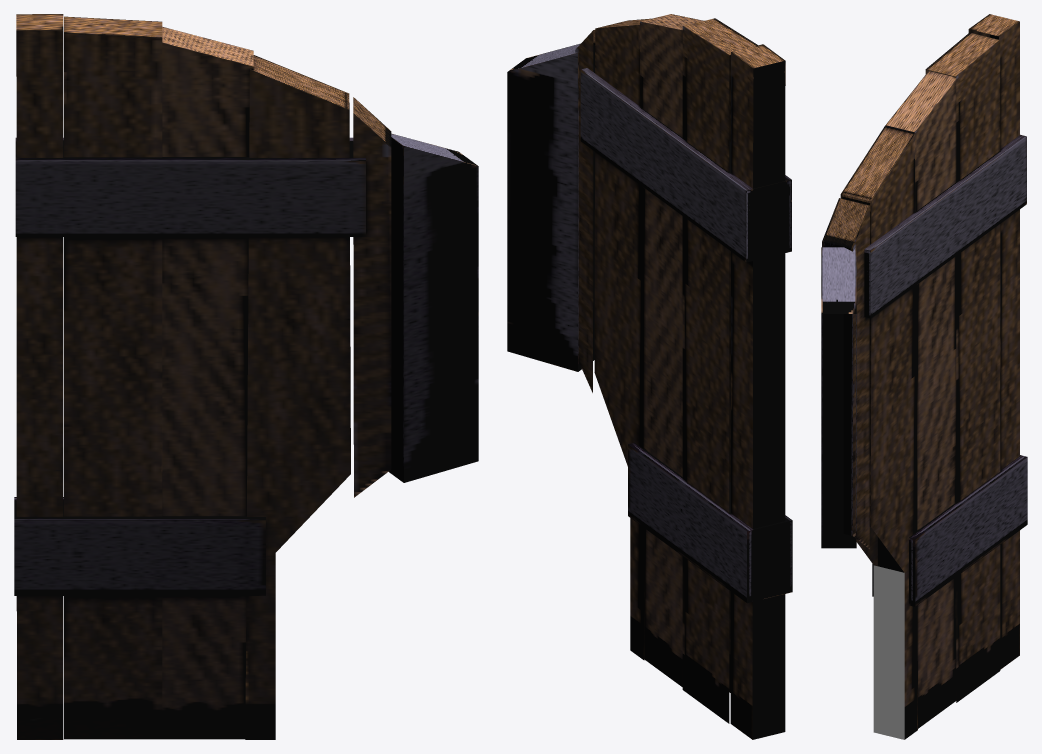
File: DoorSide1F3.obj
3 views of the same model, side by side, from view 1: azimuth 30°, elevation 25°; view 2: azimuth 150°, elevation 25°; view 3: azimuth 270°, elevation 25° (orthographic). The views are drawn at different scales.
Visible parts, largest first — view 1: object 2; view 2: object 2; view 3: object 2, DoorSide1F3_Cube.432.
Boxes of the visible parts, x1,y1,x2,y2 form: object 2: (14, 14, 478, 739); object 2: (507, 14, 792, 739); object 2: (821, 14, 1027, 739); DoorSide1F3_Cube.432: (873, 565, 904, 739).
Bounding box in the file's own units: 98.17 × 178 × 52.69.
